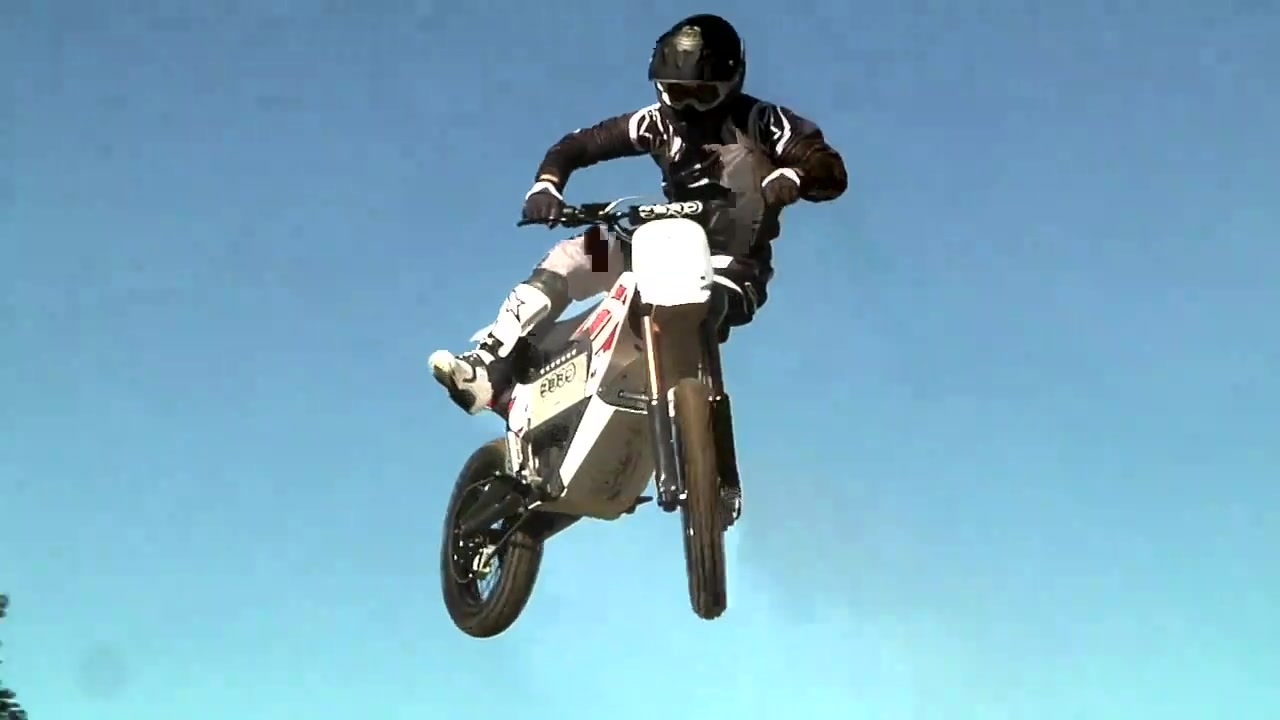motorbike: (438, 179, 803, 638)
